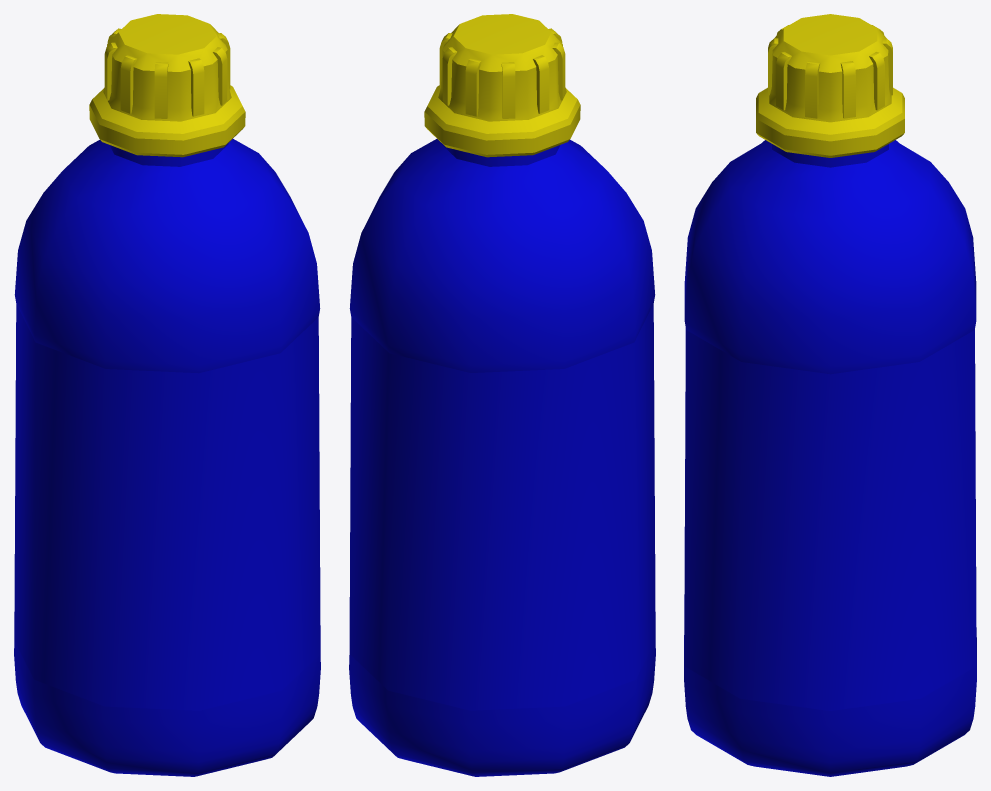
File: Alkohol 95%.fbx
3 renders of one model, left to right at view 1: azimuth 30°, elevation 25°; view 2: azimuth 150°, elevation 25°; view 3: azimuth 270°, elevation 25°, orthographic.
Visible parts, largest first — view 1: botol Alkohol; view 2: botol Alkohol; view 3: botol Alkohol.
Boxes of the visible parts, x1=… form: botol Alkohol: x1=14, y1=14, x2=320, y2=776; botol Alkohol: x1=349, y1=14, x2=655, y2=776; botol Alkohol: x1=684, y1=14, x2=976, y2=776.
Size of the model in its own units: 13.1 by 32.31 by 12.46.
